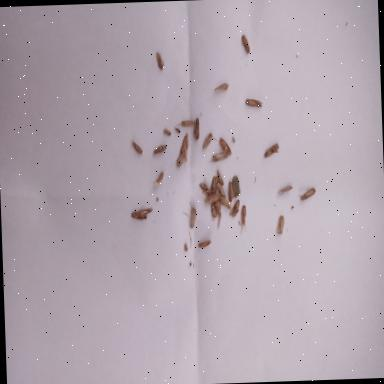pbw: (228, 195, 240, 224), (219, 136, 234, 158), (264, 142, 282, 160), (202, 132, 216, 152), (130, 209, 152, 221), (188, 204, 198, 230), (239, 204, 248, 232), (202, 192, 219, 206), (300, 188, 316, 202), (214, 200, 222, 228), (212, 82, 232, 93), (152, 144, 167, 158), (150, 174, 164, 188), (212, 153, 227, 166), (226, 180, 234, 204), (209, 176, 219, 195), (241, 34, 250, 54), (216, 182, 226, 200), (215, 168, 225, 186), (192, 118, 200, 140), (277, 214, 285, 236), (219, 196, 230, 212), (198, 181, 210, 195), (131, 140, 143, 154), (156, 52, 164, 72), (179, 119, 196, 128), (244, 100, 263, 108), (277, 186, 292, 196), (197, 240, 212, 249), (210, 204, 217, 220)
